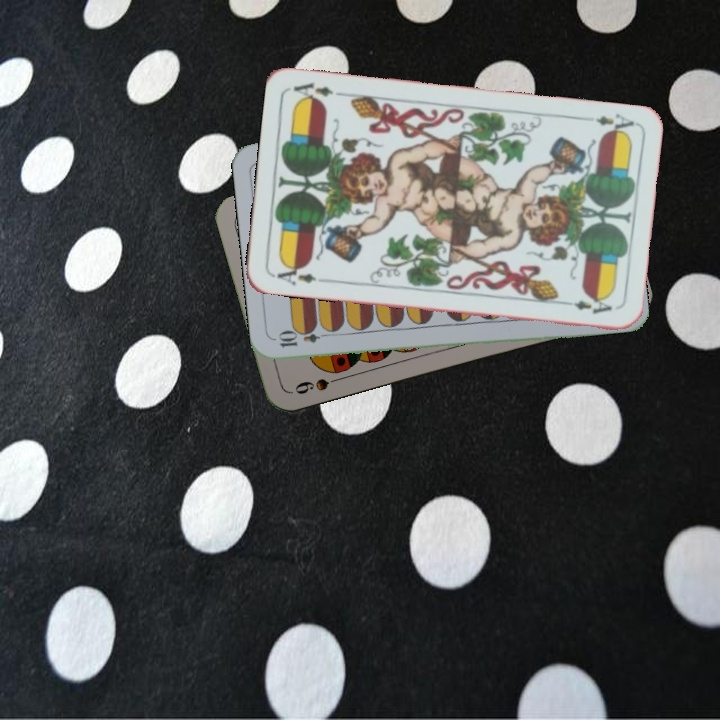E10: (274, 327, 334, 350)
EA: (578, 109, 637, 138), (269, 260, 329, 288)
S9: (290, 372, 348, 397)
